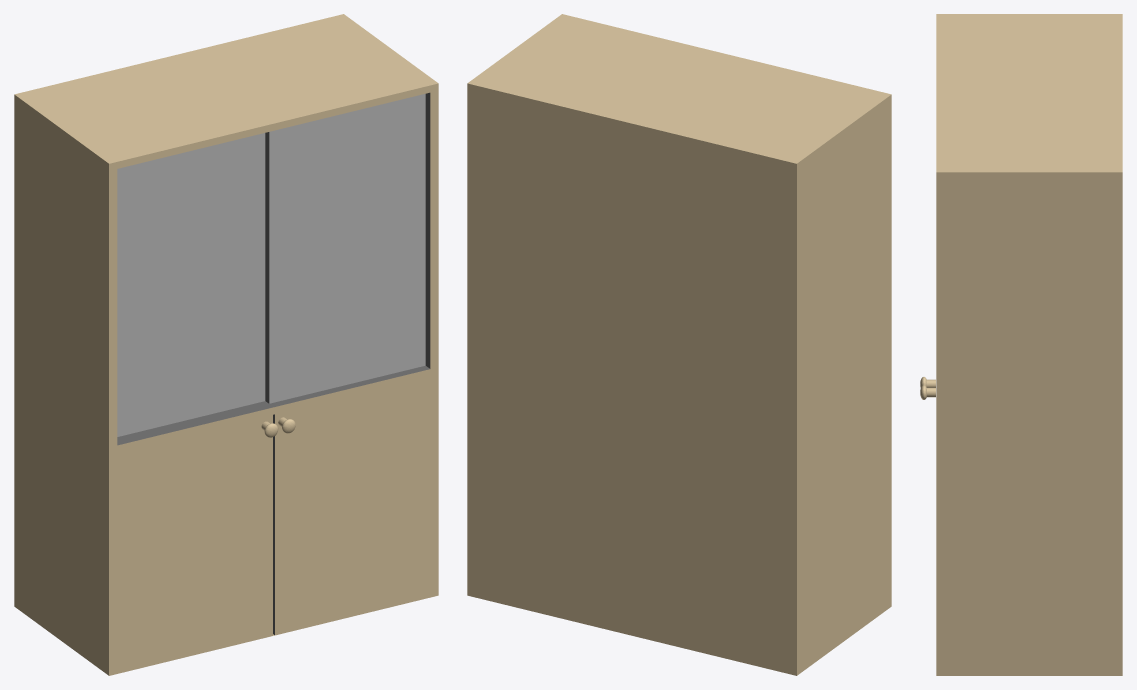
The model's file is Infirmary Shelf.fbx.
3 renders of one model, left to right at view 1: azimuth 30°, elevation 25°; view 2: azimuth 150°, elevation 25°; view 3: azimuth 270°, elevation 25°, orthographic.
Visible parts, largest first — view 1: Cube; view 2: Cube; view 3: Cube.
Part boxes in pixels (bbox=[...]): Cube: bbox=[14, 14, 438, 675]; Cube: bbox=[467, 14, 891, 675]; Cube: bbox=[920, 14, 1122, 675].
Bounding box in the file's own units: 401 × 596 × 217.
